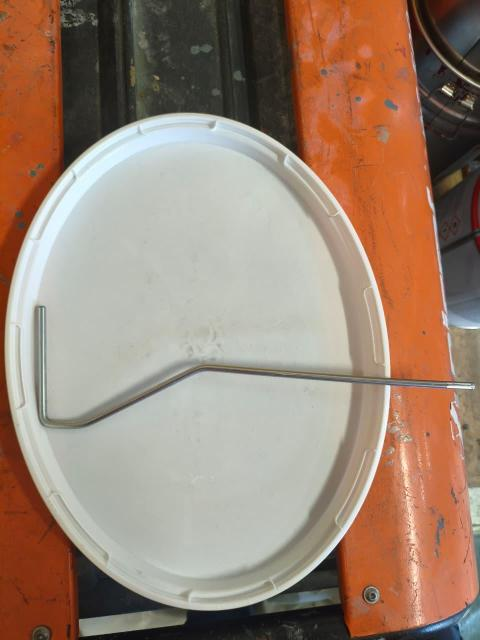Metal: (30, 308, 475, 442)
Plastik: (85, 480, 322, 617), (67, 190, 330, 288)
